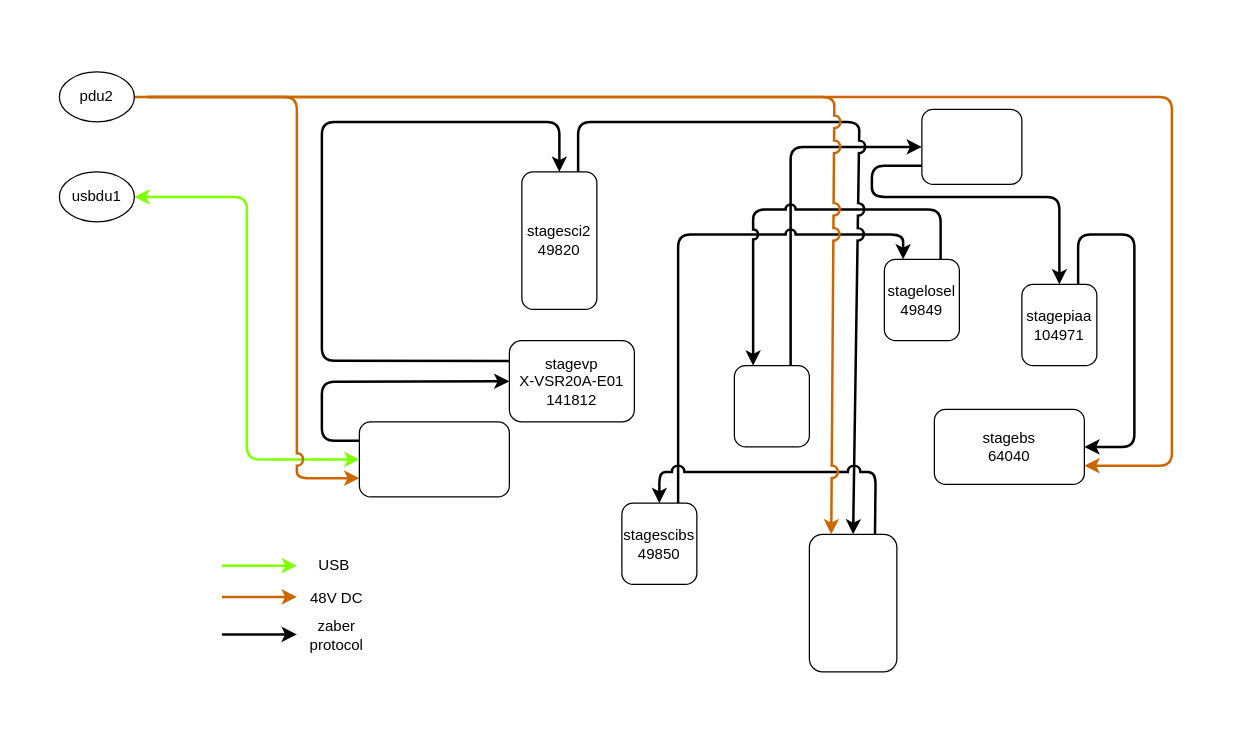
Image size: 1255x743. Some labels were removed from this diagram. The shapes that lost their labels are listed below. From the top down, each one's centre as x and y in pixels, then its label:
At point (971, 146): "stageqwplin 145940".
At point (771, 405): "stageipiaa 104970".
At point (433, 459): "stagesci1 49822".
At point (852, 602): "stageflowfs 49821".
